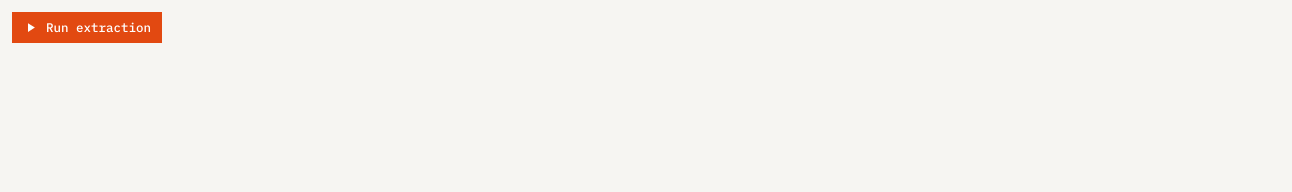
Test: failed blocks, by what a re-run would actually do › invites a re-run for the retryable blocks only, when the kinds are mixed
The image size is (1292, 192).
Click the button "Run extraction" at {"x": 87, "y": 27}, box [12, 12, 162, 43]
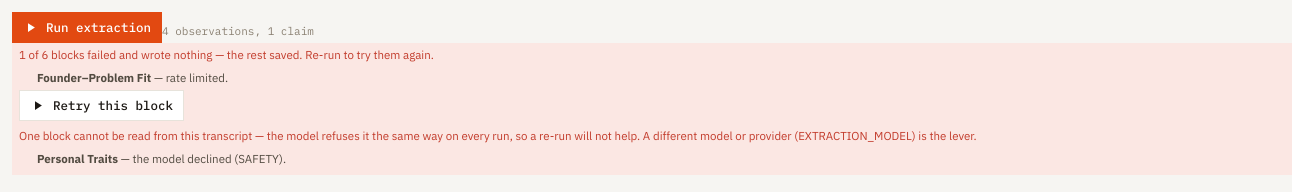
Result: the text "Re-run to try" is shown at [48, 47, 434, 62]
Result: the text "cannot be read from this transcript" is shown at [74, 128, 977, 143]
